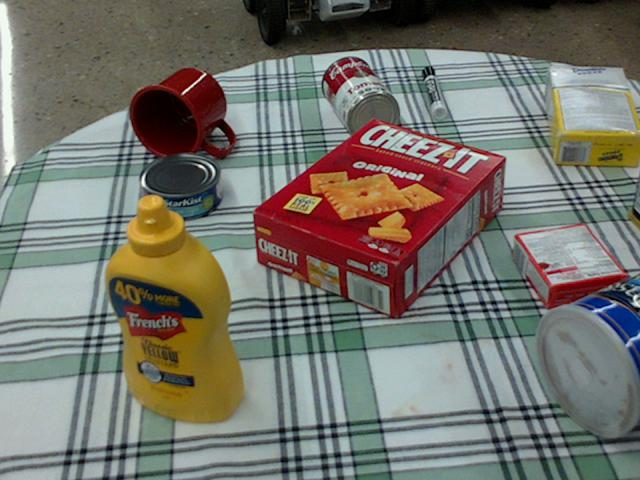cracker_box: (252, 119, 507, 318)
gelatin_box: (511, 222, 625, 305)
large_marker: (421, 66, 445, 117)
master_chef_can: (537, 271, 639, 437)
mug: (128, 67, 233, 160)
mustard_bottle: (104, 194, 245, 420)
potted_meat_can: (626, 162, 639, 230)
sugar_box: (544, 64, 639, 168)
tomato_soup_can: (321, 55, 399, 140)
tuna_fish_can: (137, 152, 221, 219)
